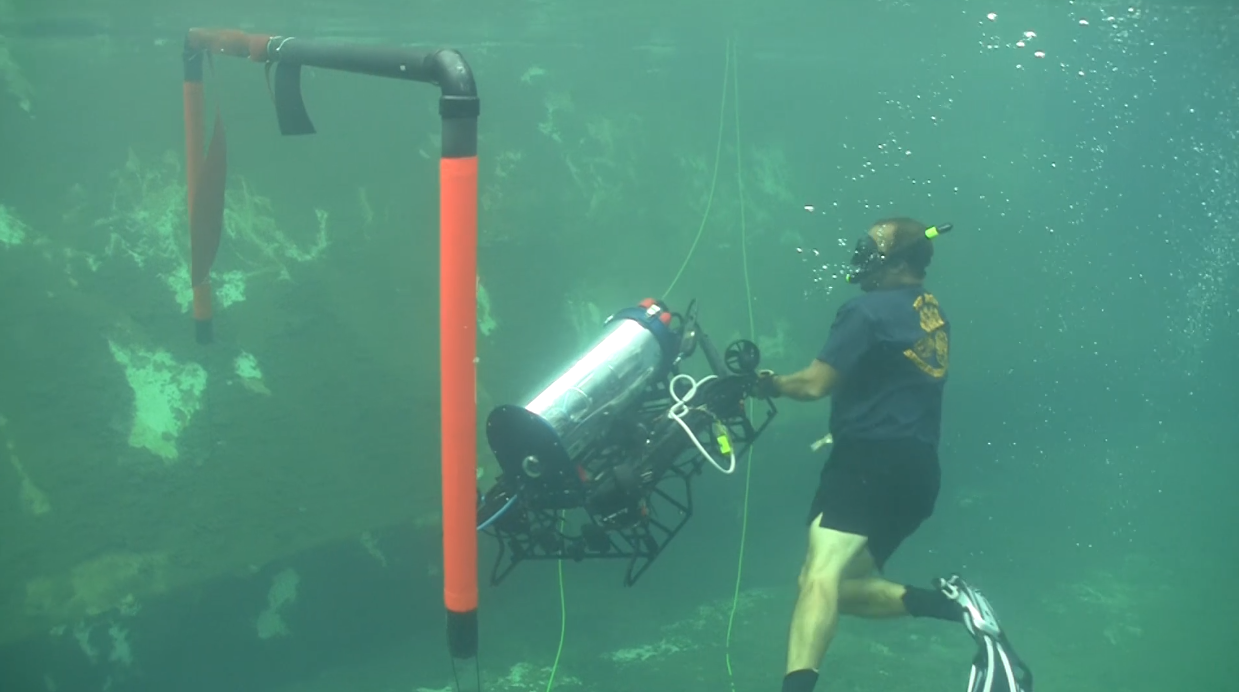gate: (161, 23, 495, 673)
